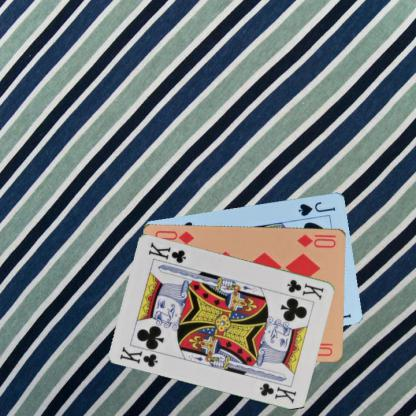10d: (294, 231, 338, 249)
Js: (296, 199, 337, 217)
Kc: (118, 343, 160, 368), (285, 277, 325, 301)
